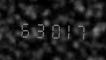one: (60, 20, 73, 40)
seven: (74, 20, 87, 41)
six: (18, 18, 31, 39)
three: (32, 19, 45, 39)
zero: (46, 19, 59, 40)
